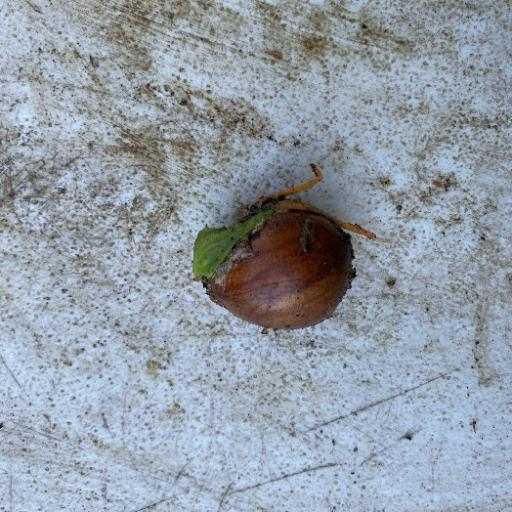Waste: (191, 162, 376, 332)
